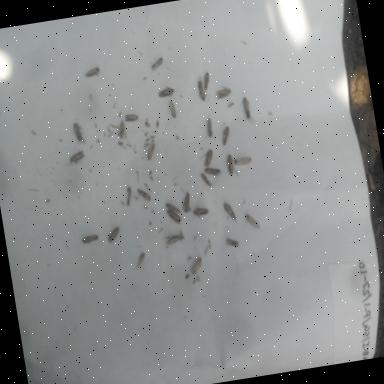pbw: (103, 220, 126, 249), (220, 193, 240, 223), (186, 203, 214, 224), (66, 146, 90, 169), (69, 116, 87, 146), (161, 206, 185, 228), (222, 150, 239, 180), (201, 112, 219, 139), (239, 92, 255, 120), (196, 67, 213, 93), (155, 81, 179, 99), (158, 198, 182, 216), (77, 232, 102, 249), (187, 256, 205, 279), (118, 109, 142, 126), (143, 140, 160, 164), (134, 248, 152, 270), (163, 94, 177, 122), (212, 84, 235, 101), (244, 210, 261, 232), (179, 190, 193, 216), (148, 54, 168, 72), (135, 186, 153, 206), (202, 146, 218, 168), (195, 78, 208, 104), (83, 64, 104, 80), (231, 153, 252, 169), (200, 164, 221, 180), (114, 118, 128, 141), (196, 168, 212, 188), (166, 232, 182, 249), (224, 235, 241, 251)
